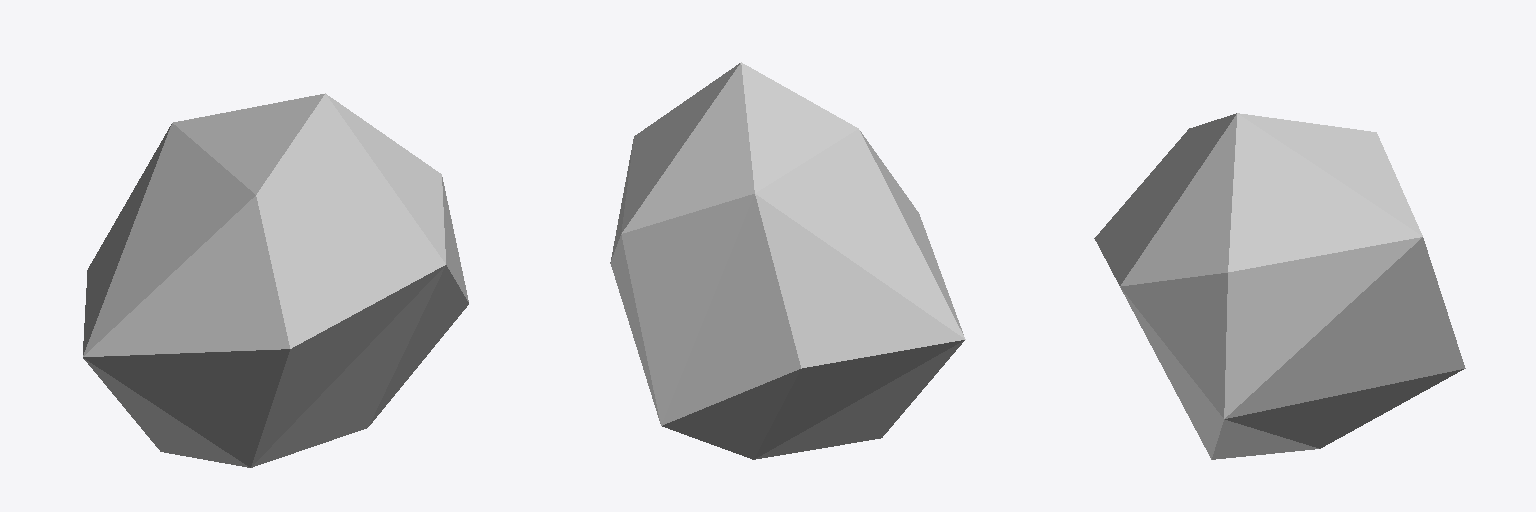
File: Bush2.obj
The picture shows the model from 3 angles: view 1: azimuth 30°, elevation 25°; view 2: azimuth 150°, elevation 25°; view 3: azimuth 270°, elevation 25°; orthographic projection.
Visible parts, largest first — view 1: Bush1_Icosphere; view 2: Bush1_Icosphere; view 3: Bush1_Icosphere.
Part boxes in pixels (left/top/right/bottom): Bush1_Icosphere: left=83, top=93, right=468, bottom=467; Bush1_Icosphere: left=610, top=62, right=965, bottom=459; Bush1_Icosphere: left=1094, top=113, right=1465, bottom=459.
Size of the model in its own units: 3.92 by 3.36 by 3.4.